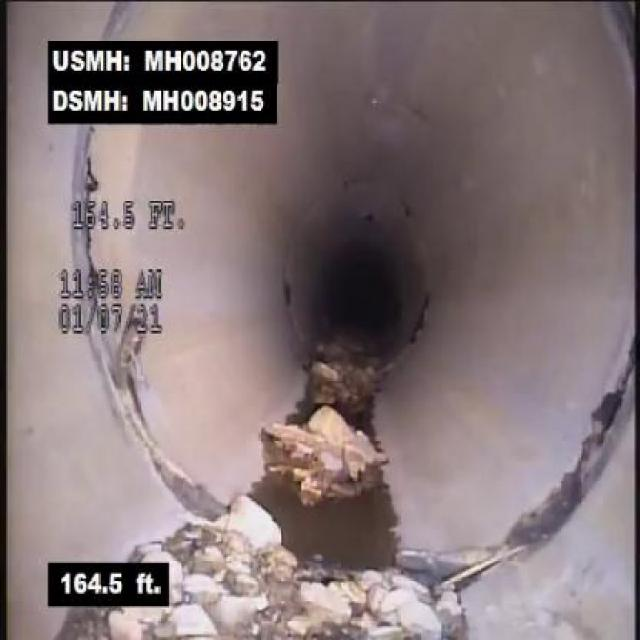Debris: (237, 377, 441, 511)
